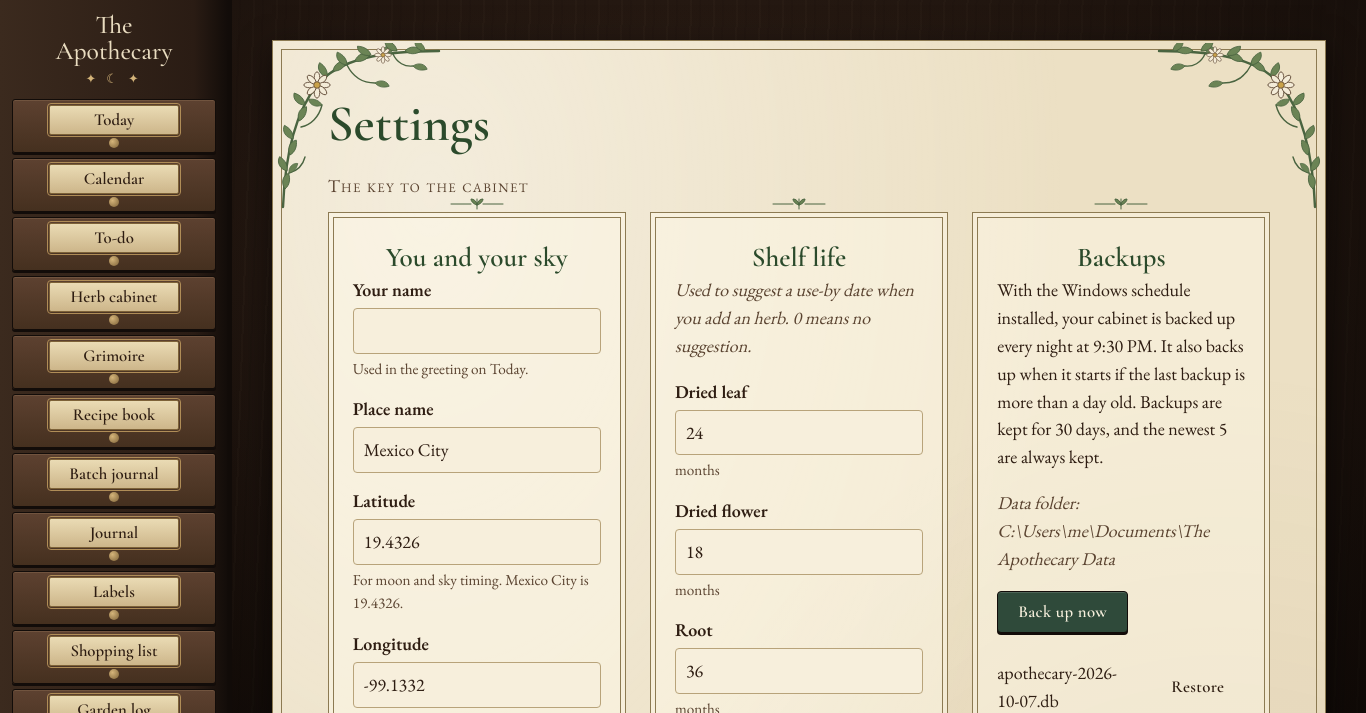
shows the server error next to the field
Replace the text in the field labelled "Latitude" with "99" at (477, 542), box [353, 519, 601, 565]
(page scrolled)
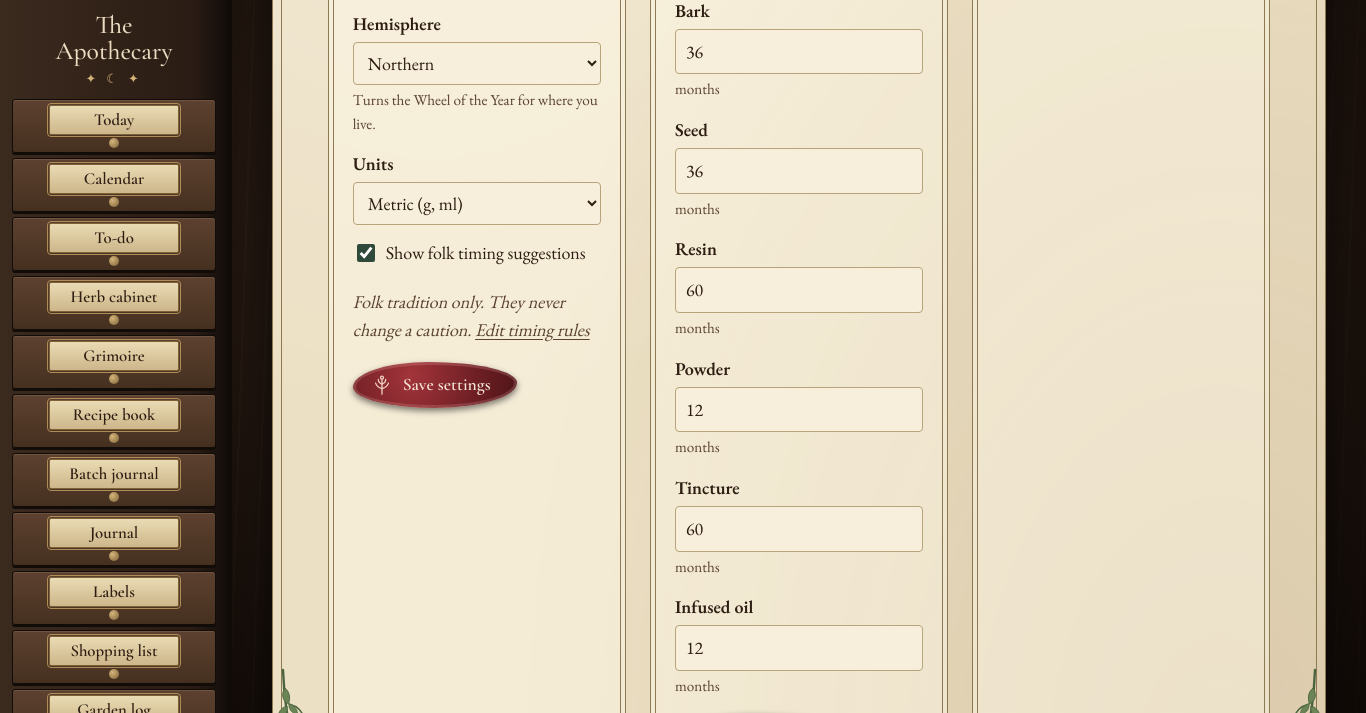
Click the button "Save settings" at (435, 385), box [353, 362, 517, 408]
(page scrolled)
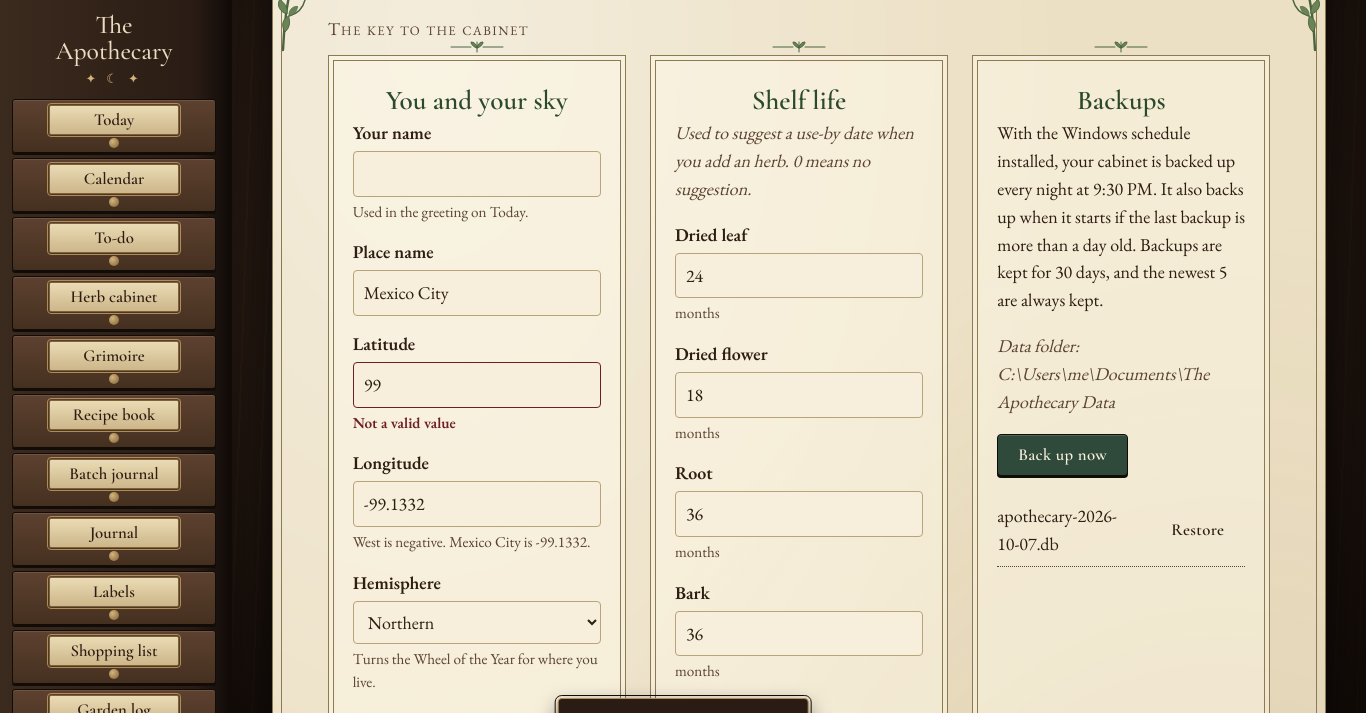
Now the text "Not a valid value" is shown, box [353, 413, 456, 433]
